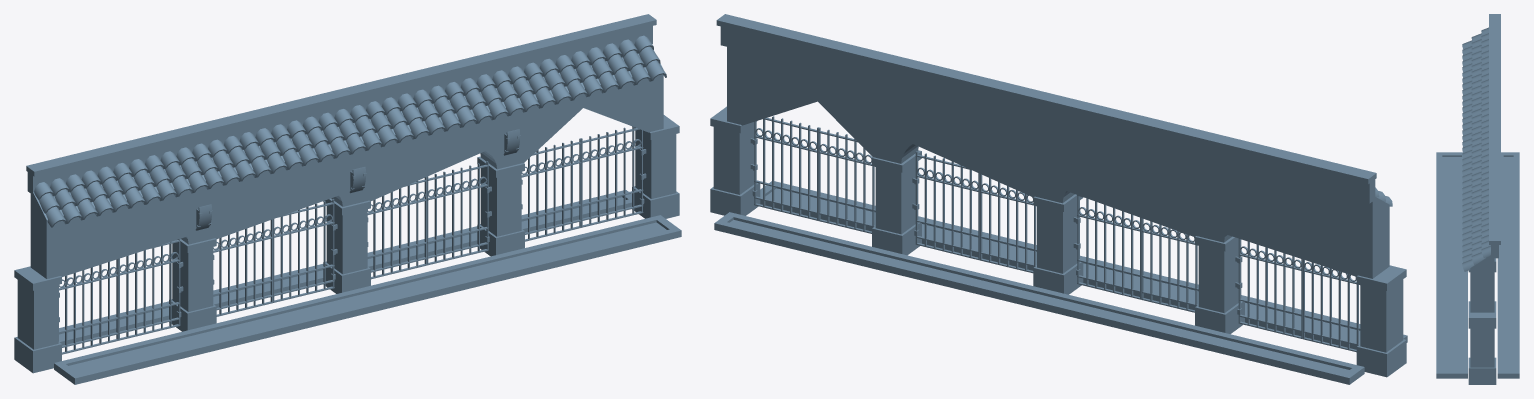
File: Studio_Walls.fbx
The picture shows the model from 3 angles, left to right: view 1: azimuth 30°, elevation 25°; view 2: azimuth 150°, elevation 25°; view 3: azimuth 270°, elevation 25°; orthographic projection. The views are drawn at different scales.
Visible parts, largest first — view 1: Studio_Walls; view 2: Studio_Walls; view 3: Studio_Walls.
Boxes of the visible parts, <box> form: Studio_Walls: <box>14,14,681,384</box>; Studio_Walls: <box>710,14,1407,384</box>; Studio_Walls: <box>1436,14,1519,384</box>.
Size of the model in its own units: 1172 by 327 by 174.
